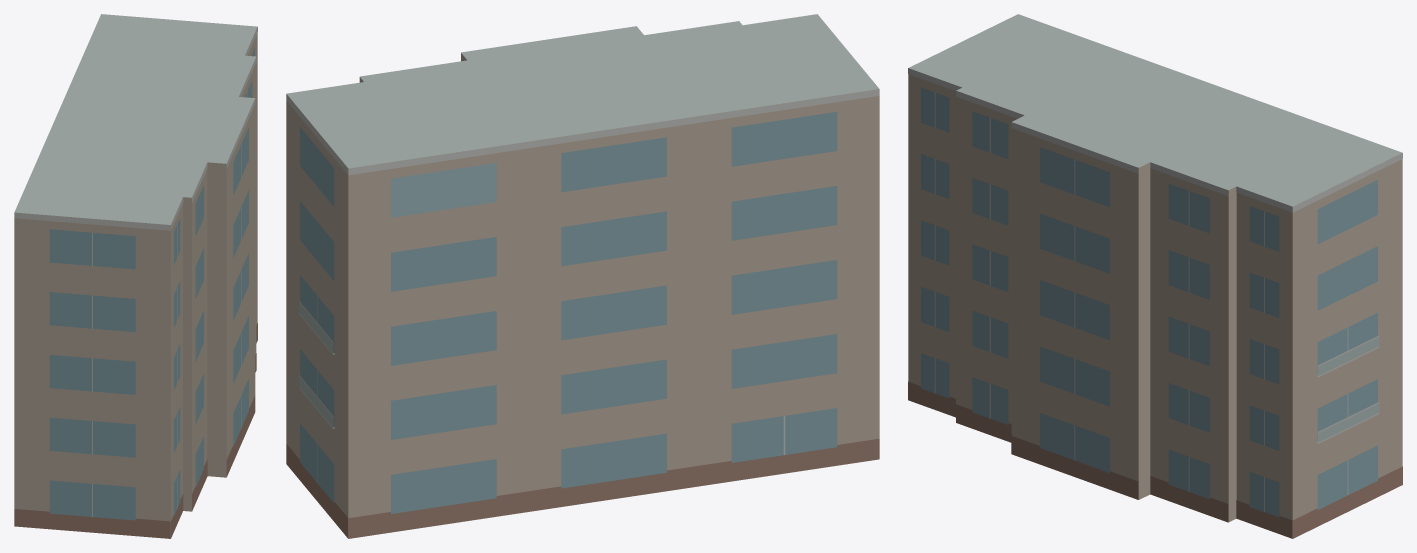
File: survey-upis-32610020.glb
3 renders of one model, left to right at view 1: azimuth 30°, elevation 25°; view 2: azimuth 150°, elevation 25°; view 3: azimuth 270°, elevation 25°, orthographic. The views are drawn at different scales.
Parts seen in each view (by area): view 1: survey-upis-32610020.tmp; view 2: survey-upis-32610020.tmp; view 3: survey-upis-32610020.tmp.
Boxes of the visible parts, <box> form: survey-upis-32610020.tmp: <box>14,14,257,538</box>; survey-upis-32610020.tmp: <box>286,14,879,538</box>; survey-upis-32610020.tmp: <box>908,14,1402,538</box>.
Size of the model in its own units: 16.68 by 13.4 by 18.09.
